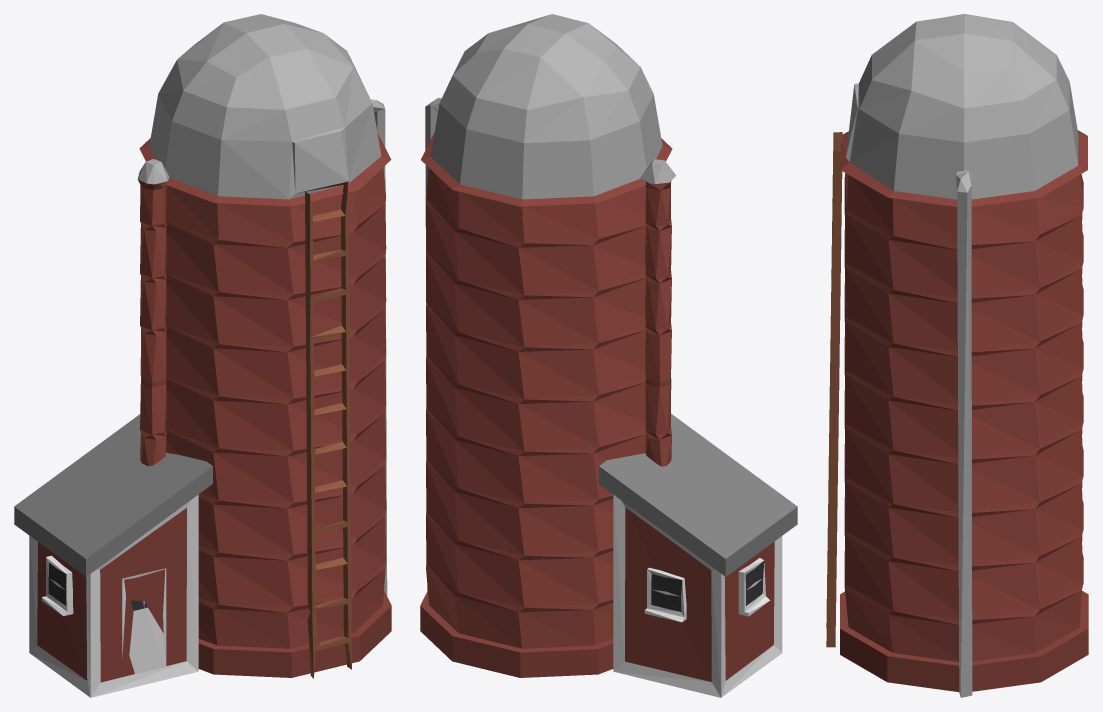
Rendered from Silo_House.lod1.glb.
3 renders of one model, left to right at view 1: azimuth 30°, elevation 25°; view 2: azimuth 150°, elevation 25°; view 3: azimuth 270°, elevation 25°, orthographic. The views are drawn at different scales.
Visible parts, largest first — view 1: Silo_House; view 2: Silo_House; view 3: Silo_House.
Part boxes in pixels (bbox=[...]): Silo_House: bbox=[14, 14, 391, 697]; Silo_House: bbox=[420, 14, 797, 697]; Silo_House: bbox=[826, 14, 1088, 697].
Bounding box in the file's own units: 5.33 × 9.07 × 3.51.
